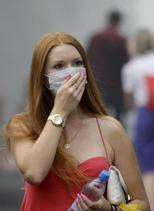OK: (45, 56, 87, 99)
